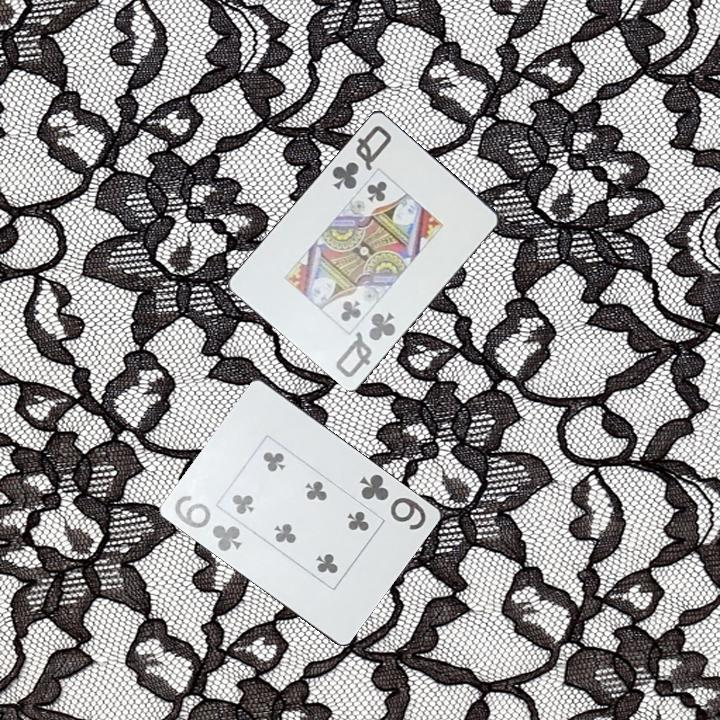6c: (171, 491, 245, 555), (356, 470, 430, 533)
Qc: (332, 308, 399, 381), (328, 121, 395, 193)
